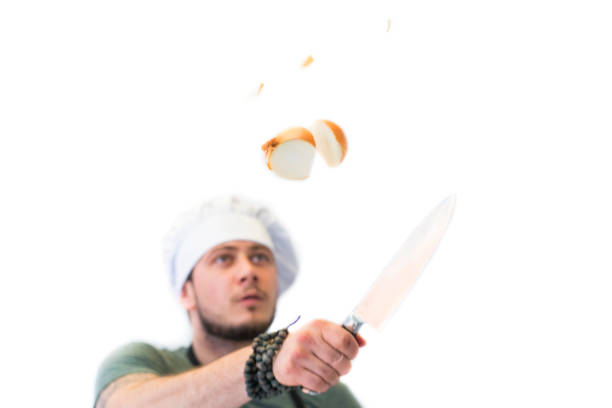knife: (349, 185, 460, 333)
